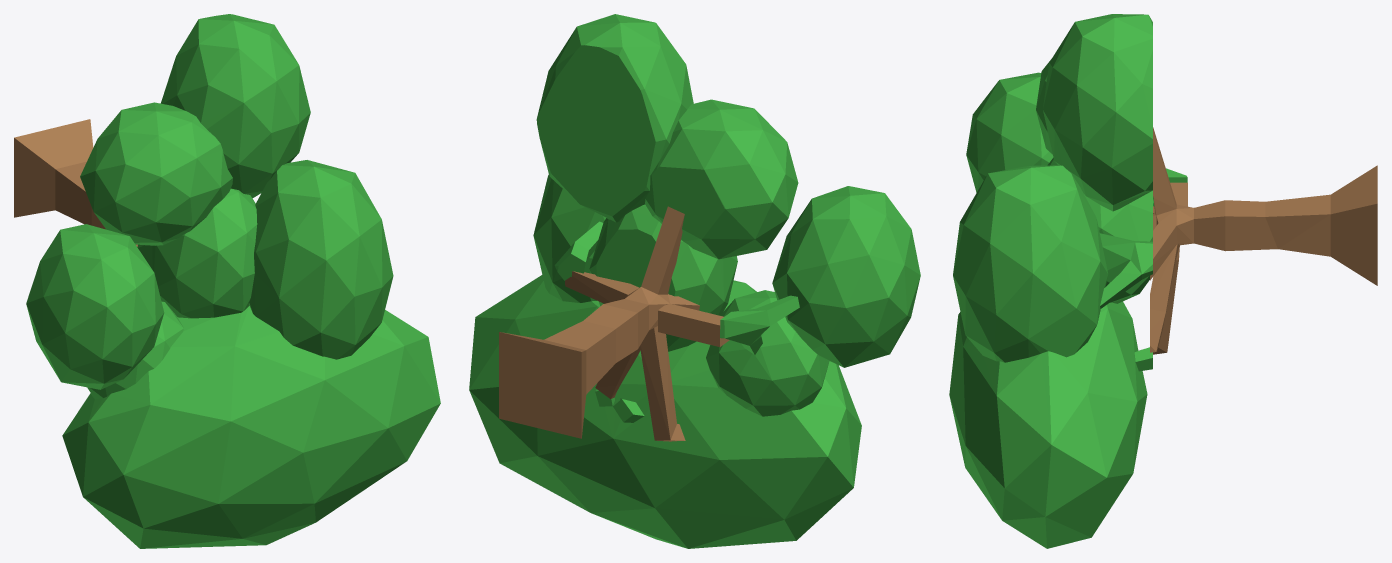
File: tree.obj
3 views of the same model, side by side, from view 1: azimuth 30°, elevation 25°; view 2: azimuth 150°, elevation 25°; view 3: azimuth 270°, elevation 25° (orthographic). The views are drawn at different scales.
Visible parts, largest first — view 1: group_0_4634441, group_0_11107152; view 2: group_0_4634441, group_0_11107152; view 3: group_0_4634441, group_0_11107152.
Part boxes in pixels (bbox=[...]): group_0_4634441: bbox=[26, 14, 440, 548]; group_0_11107152: bbox=[14, 119, 137, 246]; group_0_4634441: bbox=[469, 14, 920, 548]; group_0_11107152: bbox=[499, 206, 729, 441]; group_0_4634441: bbox=[949, 14, 1187, 548]; group_0_11107152: bbox=[1150, 127, 1377, 354].
Size of the model in its own units: 12.31 by 15 by 11.28.
